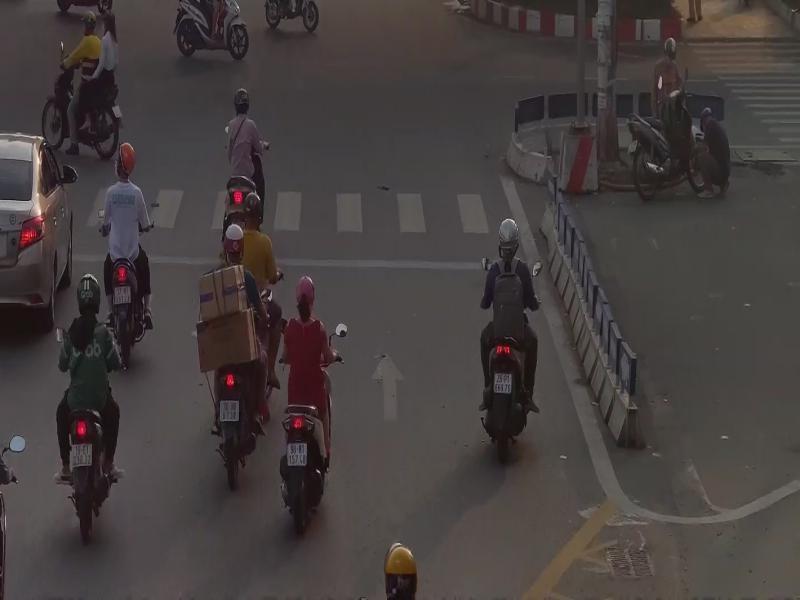helmet: (383, 539, 419, 600), (76, 273, 101, 317), (222, 225, 245, 265), (498, 217, 519, 254), (243, 192, 262, 228), (295, 275, 316, 307), (118, 142, 137, 175), (231, 88, 250, 111), (663, 36, 678, 59), (700, 105, 712, 130), (81, 11, 97, 29), (100, 9, 116, 24)
license_plate: (70, 442, 92, 468), (286, 441, 308, 467), (219, 398, 239, 423), (493, 370, 512, 396), (113, 284, 132, 306), (112, 105, 122, 118)
motorcyclist: (195, 222, 270, 486), (55, 272, 123, 544), (479, 216, 540, 460), (281, 272, 333, 535), (98, 141, 155, 371), (40, 10, 123, 161), (224, 86, 266, 235)
